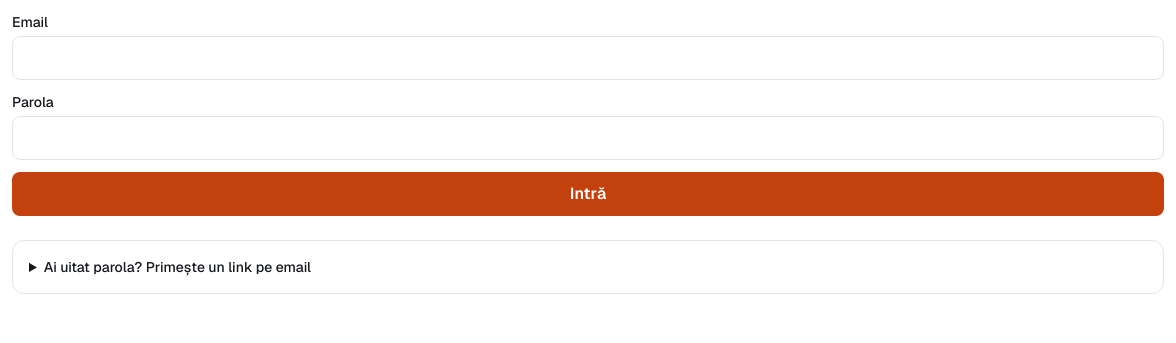
LoginForm › says when the email or password is wrong, without saying which
In the field labelled "Email": (588, 58) top-left (12, 36), bottom-right (1164, 80), type "admin@example.com"
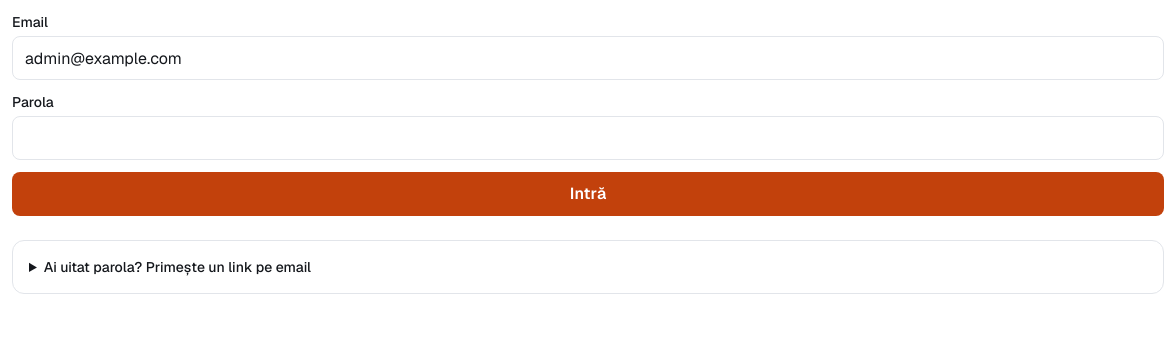
In the password field labelled "Parola": (588, 138) top-left (12, 116), bottom-right (1164, 160), type "greșit"
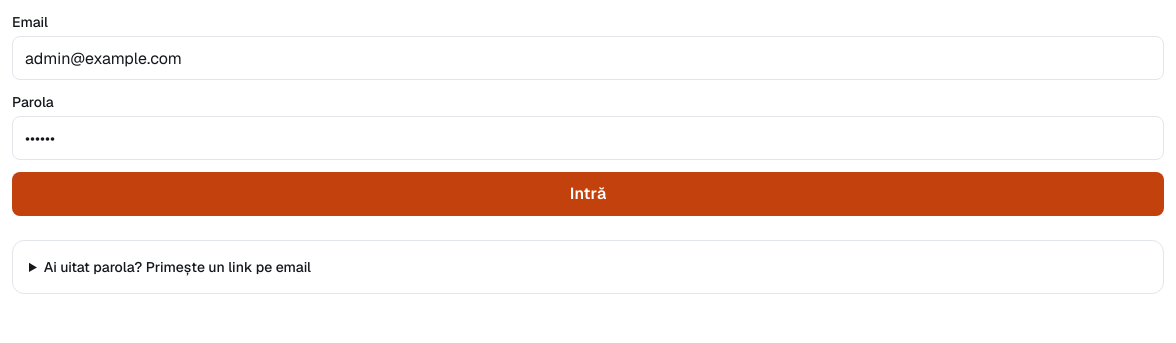
Click the button "Intră": (588, 194) top-left (12, 172), bottom-right (1164, 216)
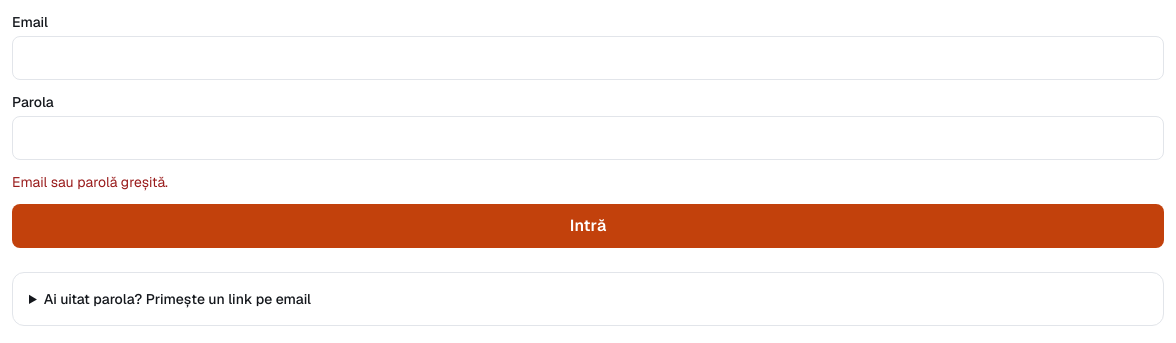
expect the message reads "Email sau parolă greșită.": met, box top-left (12, 173), bottom-right (168, 191)
